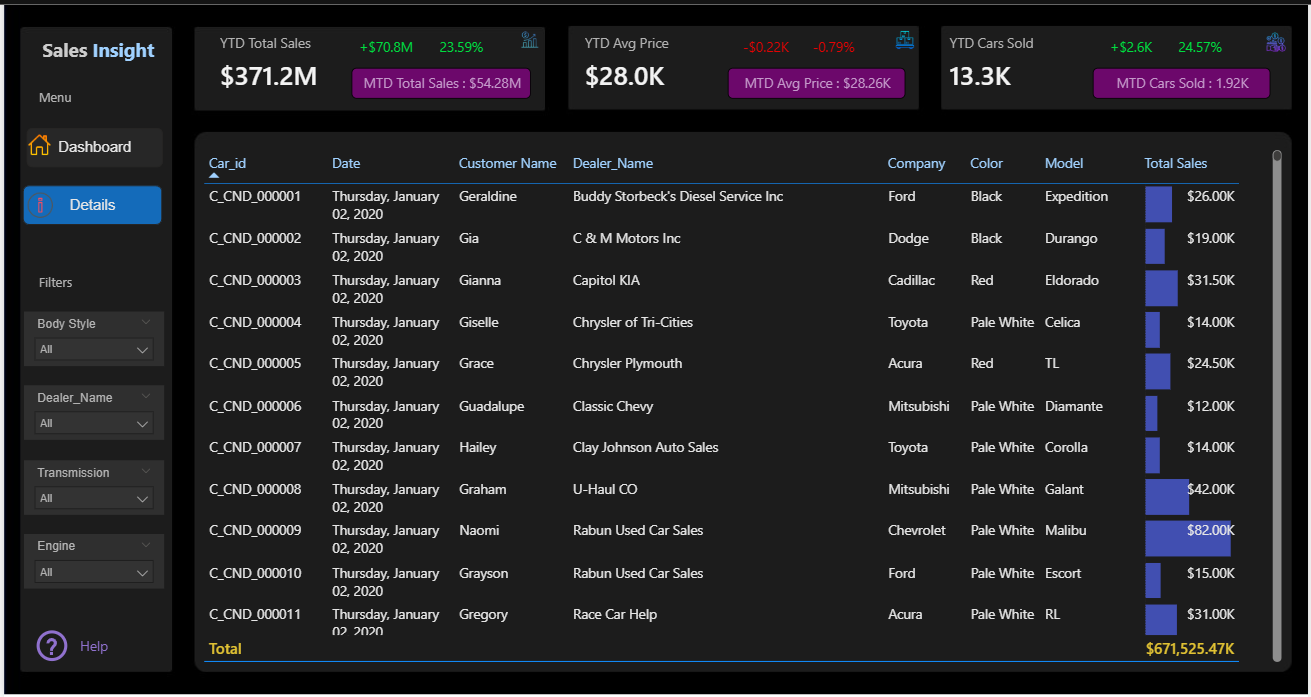

The dashboard page shown, as its layout file describes it:
{"tool":"powerbi","page":{"name":"Details","canvas":[1280,720],"ordinal":1},"visuals":[{"type":"card","title":"YTD Total sales ","fields":{"Values":["car_data.YTD Total sales"]},"box":[188,67.2,172.9,78.2],"z":0},{"type":"card","fields":{"Values":["car_data.Sales Difference"]},"box":[373.2,64.5,76.8,34.3],"z":1000},{"type":"card","fields":{"Values":["car_data.YoY sales growth"]},"box":[450.1,60.4,76.8,43.9],"z":2000},{"type":"card","fields":{"Values":["car_data.MTD kpi"]},"box":[352.7,98.8,167.4,35.7],"z":3000},{"type":"card","title":"YTD  Avg. Price","fields":{"Values":["car_data.Avg price"]},"box":[553,67.2,172.9,78.2],"z":4000},{"type":"card","fields":{"Values":["car_data.Avg Pri difference"]},"box":[725.9,60.4,76.8,34.3],"z":5000},{"type":"card","fields":{"Values":["car_data.YoY Avg Price growth"]},"box":[822,60.4,76.8,34.3],"z":6000},{"type":"card","fields":{"Values":["car_data.MTD avg Kpi"]},"box":[719,98.8,167.4,35.7],"z":7000},{"type":"card","title":"YTD  Car Sold ","fields":{"Values":["car_data.YTD Cars sold"]},"box":[916.6,64.5,172.9,78.2],"z":8000},{"type":"card","fields":{"Values":["car_data.car sold difference"]},"box":[1077.2,60.4,76.8,34.3],"z":9000},{"type":"card","fields":{"Values":["car_data.YoY car sold growth"]},"box":[1184.2,60.4,76.8,34.3],"z":10000},{"type":"card","fields":{"Values":["car_data.MTD car sold kpi"]},"box":[1086.8,98.8,167.4,35.7],"z":11000},{"type":"textbox","box":[450,0,470,46.2],"z":12000},{"type":"slicer","fields":{"Values":["car_data.Body Style"]},"box":[17.5,316.2,142.5,72.5],"z":13000},{"type":"slicer","fields":{"Values":["car_data.Dealer_Region"]},"box":[17.5,405,142.5,72.5],"z":14000},{"type":"slicer","fields":{"Values":["car_data.Transmission"]},"box":[17.5,493.8,142.5,72.5],"z":15000},{"type":"slicer","fields":{"Values":["car_data.Engine"]},"box":[17.5,582.5,142.5,72.5],"z":16000},{"type":"tableEx","fields":{"Values":["car_data.Car_id","car_data.Date","car_data.Customer Name","car_data.Dealer_Name","car_data.Company","car_data.Color","car_data.Model","car_data.Total sales"]},"box":[187.5,166.2,1081.2,532.5],"z":17000},{"type":"textbox","box":[17.1,60,147.1,37.1],"z":18000},{"type":"textbox","box":[28.8,106.2,60,32.5],"z":19000},{"type":"pageNavigator","box":[17.5,166.2,137.5,122.5],"z":20000}]}

Visuals, with their boxes on the page's 1280x720 design canvas (x1, y1, x2, y2). These are canvas units, not pixel positions in the 1311x697 screenshot, which may show the page scaled, cropped or inside an application window:
"YTD Total sales " card: (188,67,361,145)
card - car_data.Sales Difference: (373,64,450,99)
card - car_data.YoY sales growth: (450,60,527,104)
card - car_data.MTD kpi: (353,99,520,134)
"YTD  Avg. Price" card: (553,67,726,145)
card - car_data.Avg Pri difference: (726,60,803,95)
card - car_data.YoY Avg Price growth: (822,60,899,95)
card - car_data.MTD avg Kpi: (719,99,886,134)
"YTD  Car Sold " card: (917,64,1090,143)
card - car_data.car sold difference: (1077,60,1154,95)
card - car_data.YoY car sold growth: (1184,60,1261,95)
card - car_data.MTD car sold kpi: (1087,99,1254,134)
textbox: (450,0,920,46)
slicer - car_data.Body Style: (18,316,160,389)
slicer - car_data.Dealer_Region: (18,405,160,478)
slicer - car_data.Transmission: (18,494,160,566)
slicer - car_data.Engine: (18,582,160,655)
tableEx - car_data.Car_id x car_data.Date: (188,166,1269,699)
textbox: (17,60,164,97)
textbox: (29,106,89,139)
pageNavigator: (18,166,155,289)
